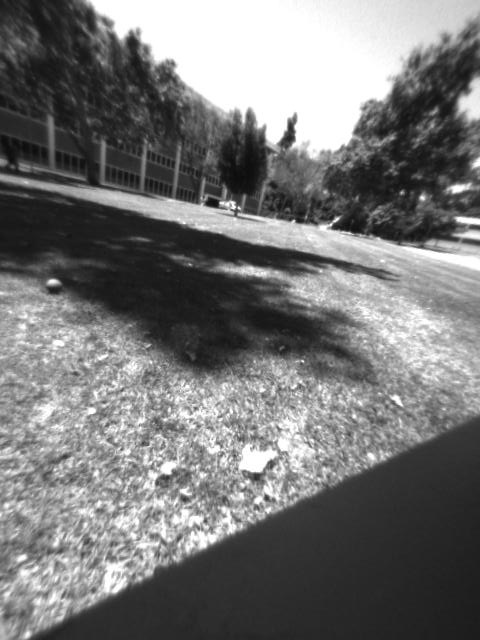dogtoy: (38, 269, 72, 303)
